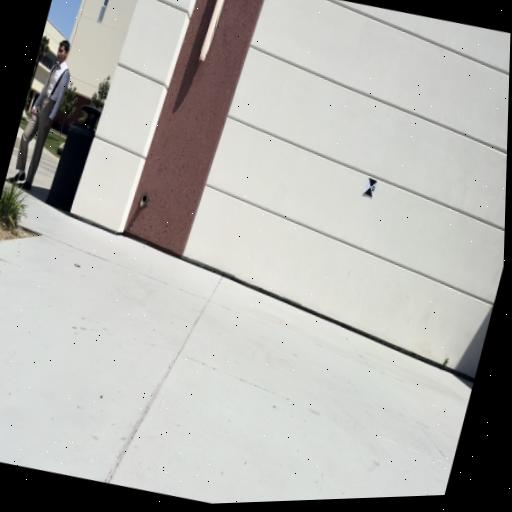target0: (362, 176, 378, 199)
